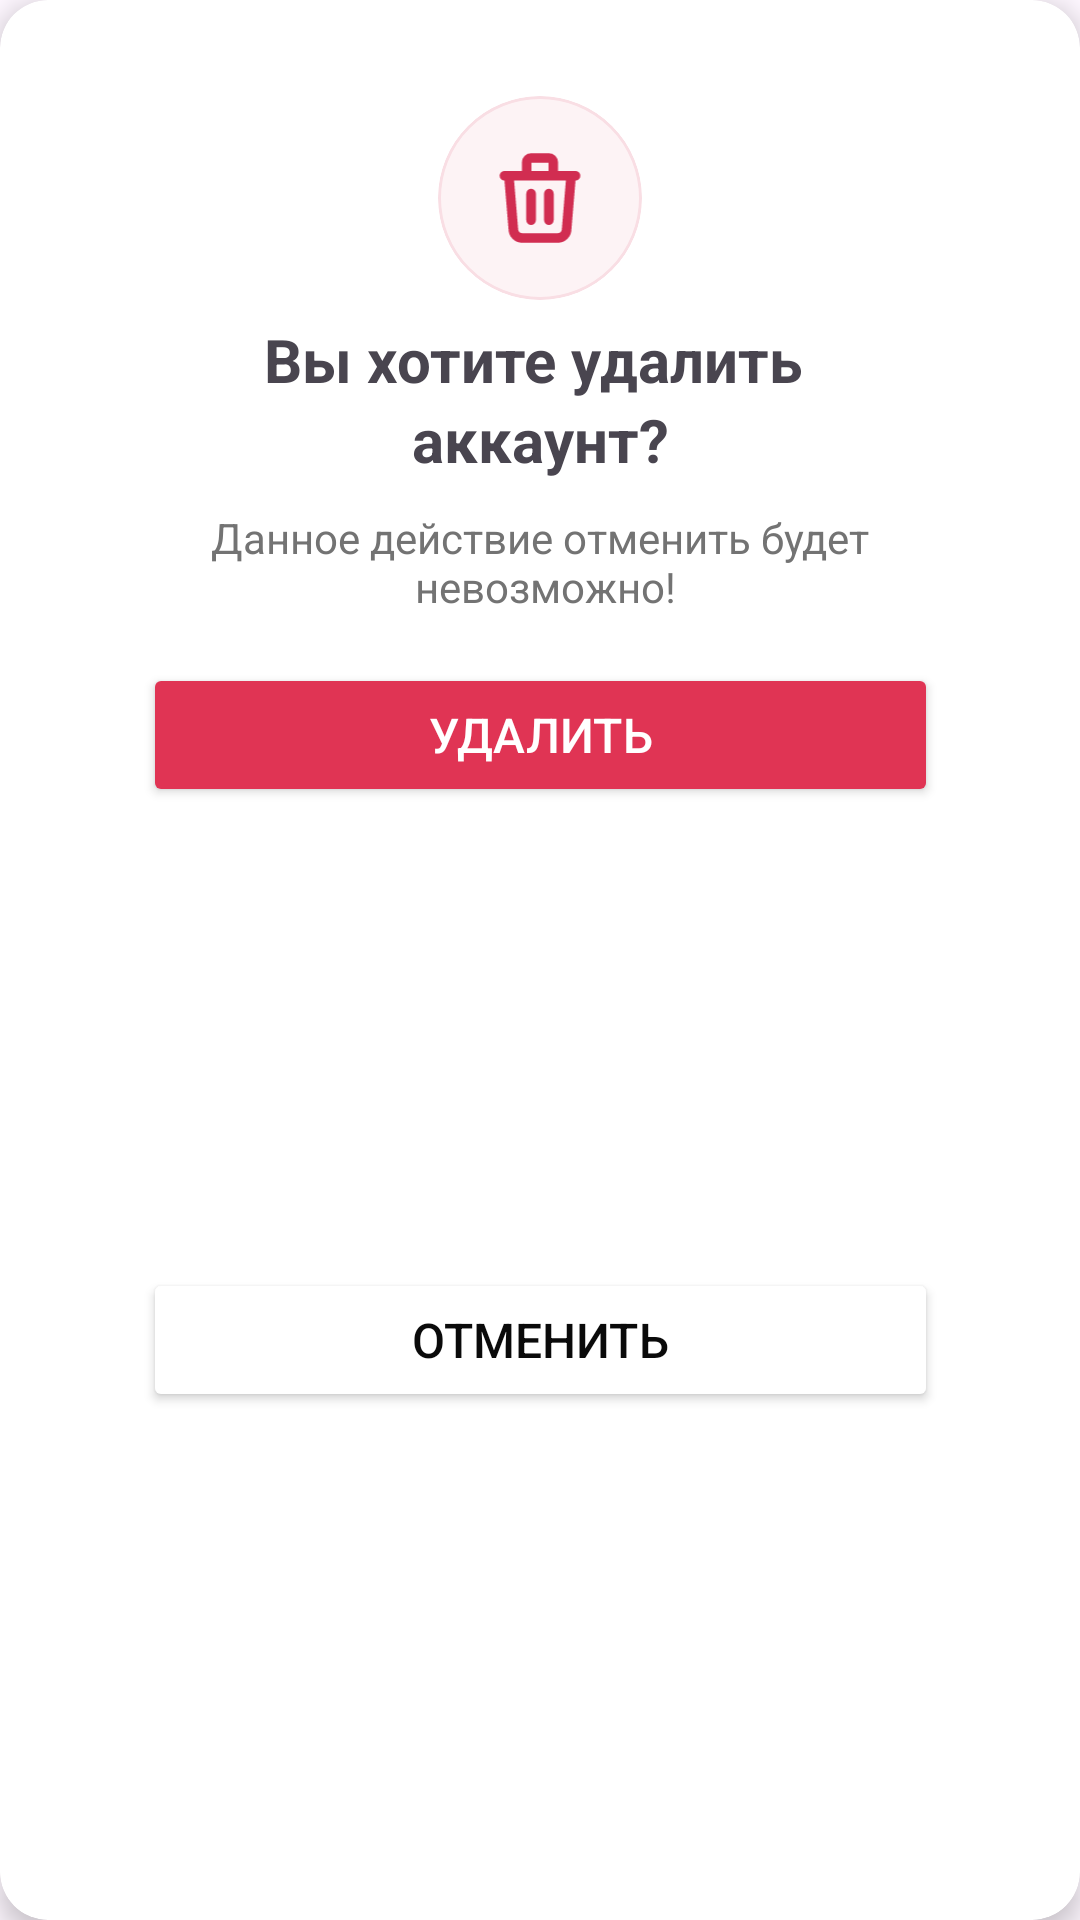

Icons on this 1080 x 1920 Android screen, each with its box as (x1, y1, x2, y2):
delete: (499, 153, 581, 243)
